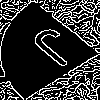J: (25, 25, 95, 77)
